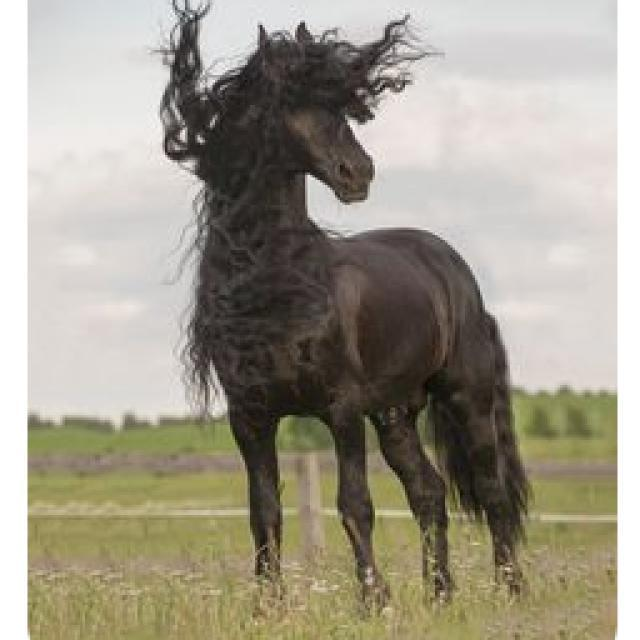Horse: (145, 0, 542, 622)
